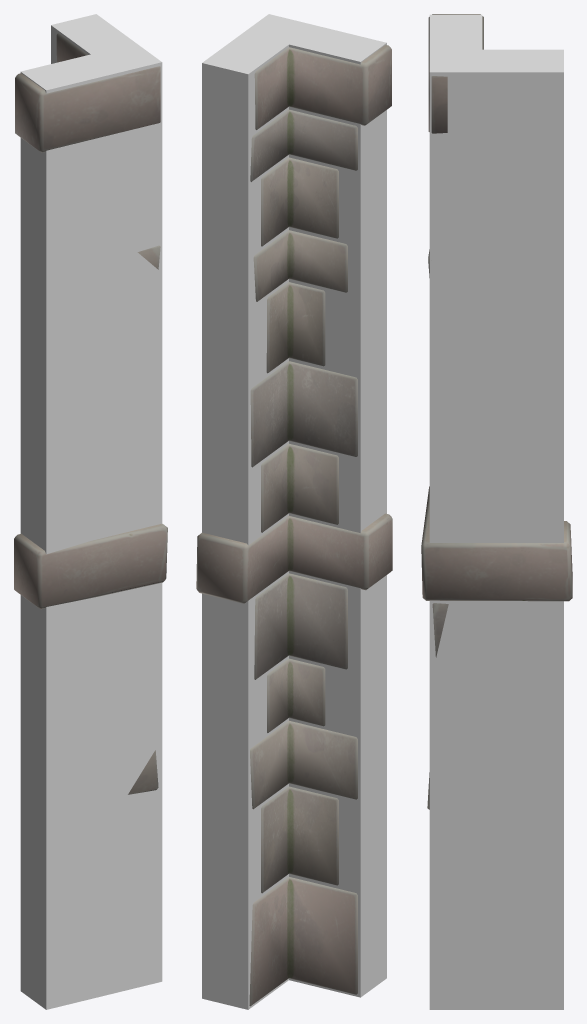
Rendered from Wall_Edge_1_Foundation.fbx.
3 renders of one model, left to right at view 1: azimuth 30°, elevation 25°; view 2: azimuth 150°, elevation 25°; view 3: azimuth 270°, elevation 25°, orthographic.
Visible parts, largest first — view 1: Wall_Edge_1_Foundation_COL0, Wall_Edge_1_Foundation_LOD0; view 2: Wall_Edge_1_Foundation_COL0, Wall_Edge_1_Foundation_LOD0; view 3: Wall_Edge_1_Foundation_COL0, Wall_Edge_1_Foundation_LOD0.
Boxes of the visible parts, x1=… form: Wall_Edge_1_Foundation_COL0: x1=20, y1=14, x2=162, y2=1009; Wall_Edge_1_Foundation_LOD0: x1=14, y1=33, x2=167, y2=794; Wall_Edge_1_Foundation_COL0: x1=202, y1=14, x2=386, y2=1009; Wall_Edge_1_Foundation_LOD0: x1=196, y1=44, x2=392, y2=1006; Wall_Edge_1_Foundation_COL0: x1=429, y1=14, x2=563, y2=1009; Wall_Edge_1_Foundation_LOD0: x1=421, y1=14, x2=572, y2=809.
Size of what is drawn, in the model's own units: 57.92 by 402 by 58.77.
